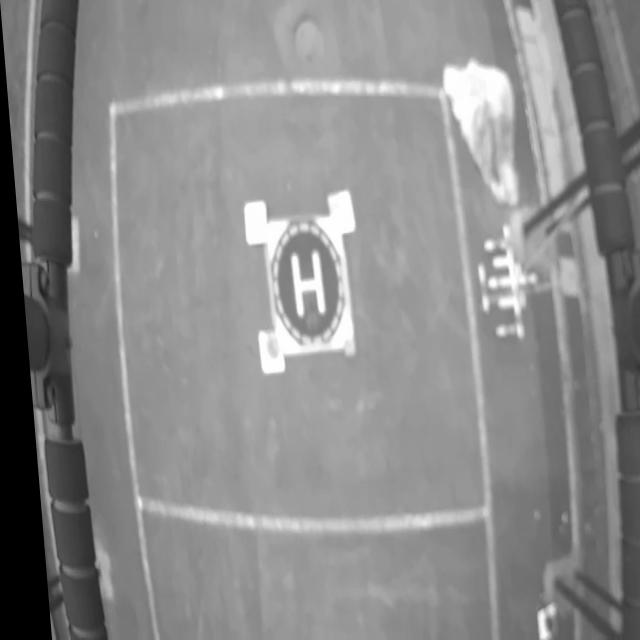Helipad: (286, 251, 322, 316)
